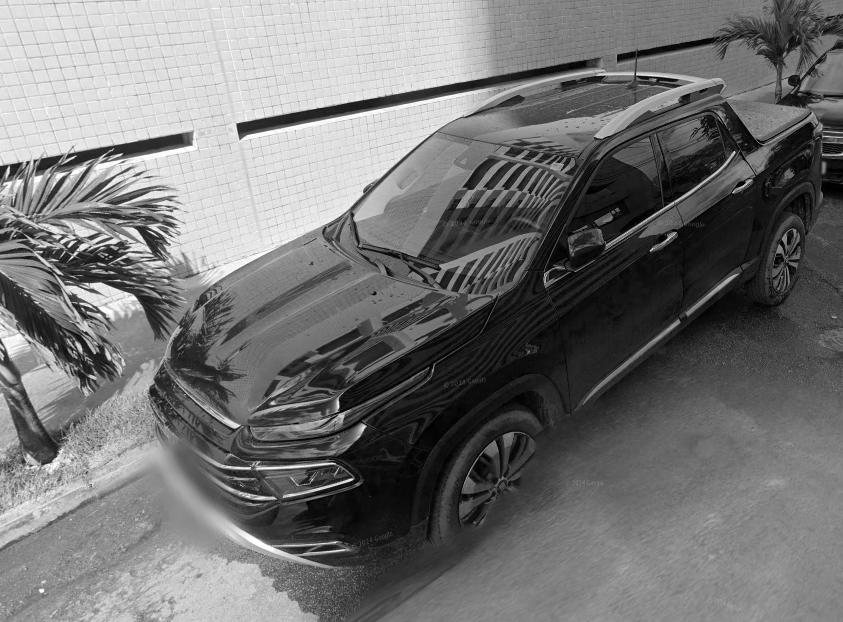car: (159, 70, 829, 577)
